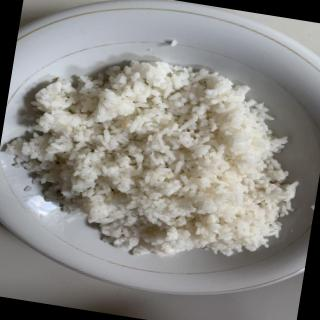Nasi: (1, 43, 314, 282)
